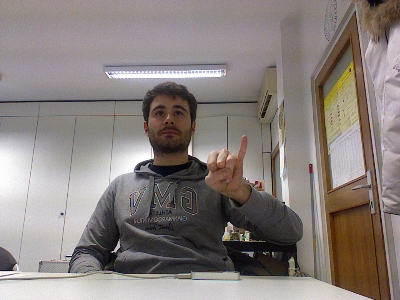小指: (203, 132, 249, 195)
